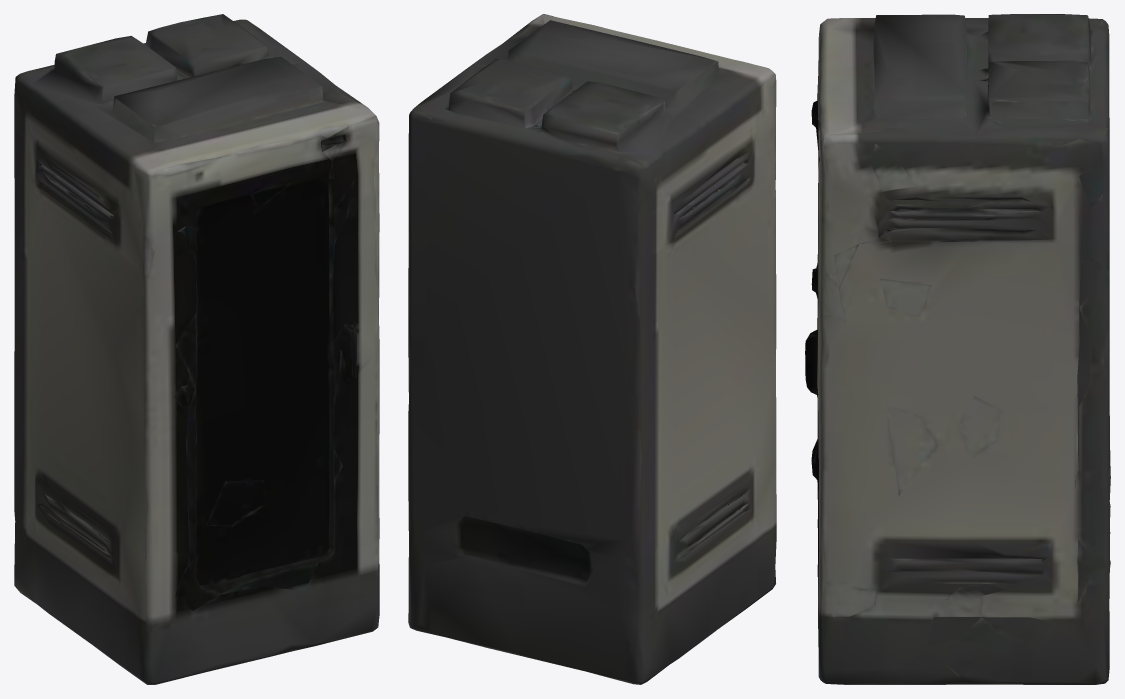
The model's file is server_rack.glb.
The picture shows the model from 3 angles, left to right: view 1: azimuth 30°, elevation 25°; view 2: azimuth 150°, elevation 25°; view 3: azimuth 270°, elevation 25°; orthographic projection. The views are drawn at different scales.
Visible parts, largest first — view 1: geometry_0; view 2: geometry_0; view 3: geometry_0.
Boxes of the visible parts, <box> form: geometry_0: <box>14,14,379,684</box>; geometry_0: <box>408,14,776,684</box>; geometry_0: <box>805,14,1110,684</box>.
Bounding box in the file's own units: 0.4724 × 1 × 0.4857.
1 material, 1 textured.
